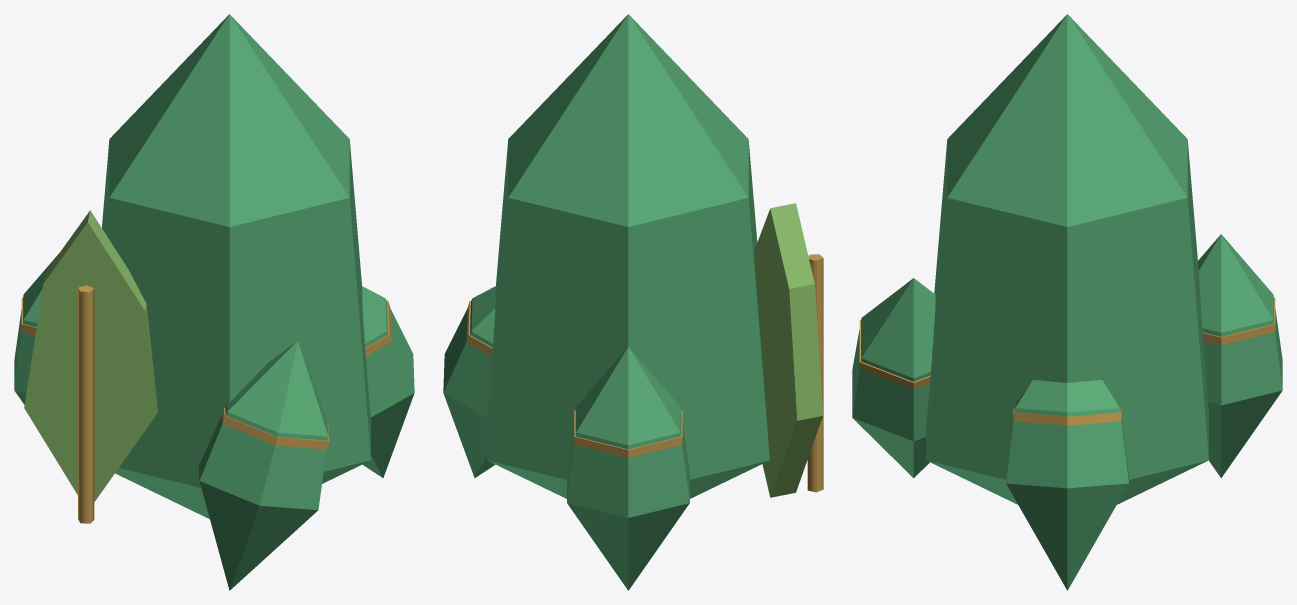
Rendered from verdant_crystal.fbx.
3 renders of one model, left to right at view 1: azimuth 30°, elevation 25°; view 2: azimuth 150°, elevation 25°; view 3: azimuth 270°, elevation 25°, orthographic.
Parts seen in each view (by area): view 1: verdant_crystal; view 2: verdant_crystal; view 3: verdant_crystal.
Boxes of the visible parts, <box> form: verdant_crystal: <box>14,14,414,590</box>; verdant_crystal: <box>443,14,823,590</box>; verdant_crystal: <box>852,14,1282,590</box>.
Bounding box in the file's own units: 0.624 × 0.8 × 0.6062.
